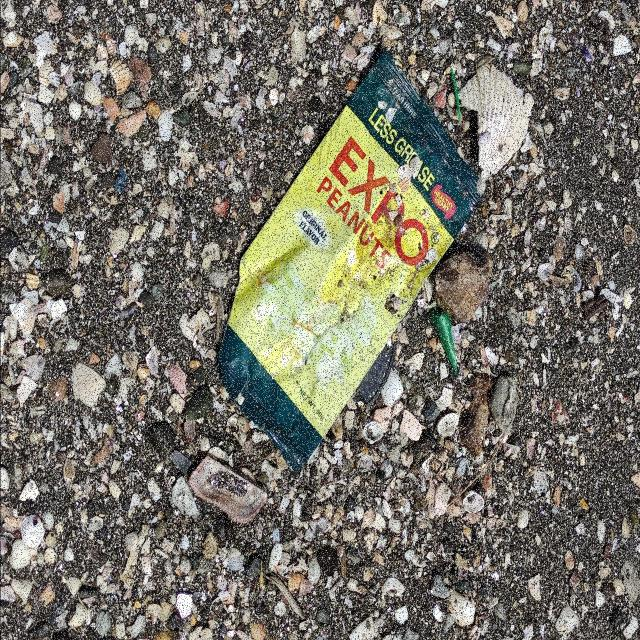plastic_waste: (219, 51, 481, 469)
